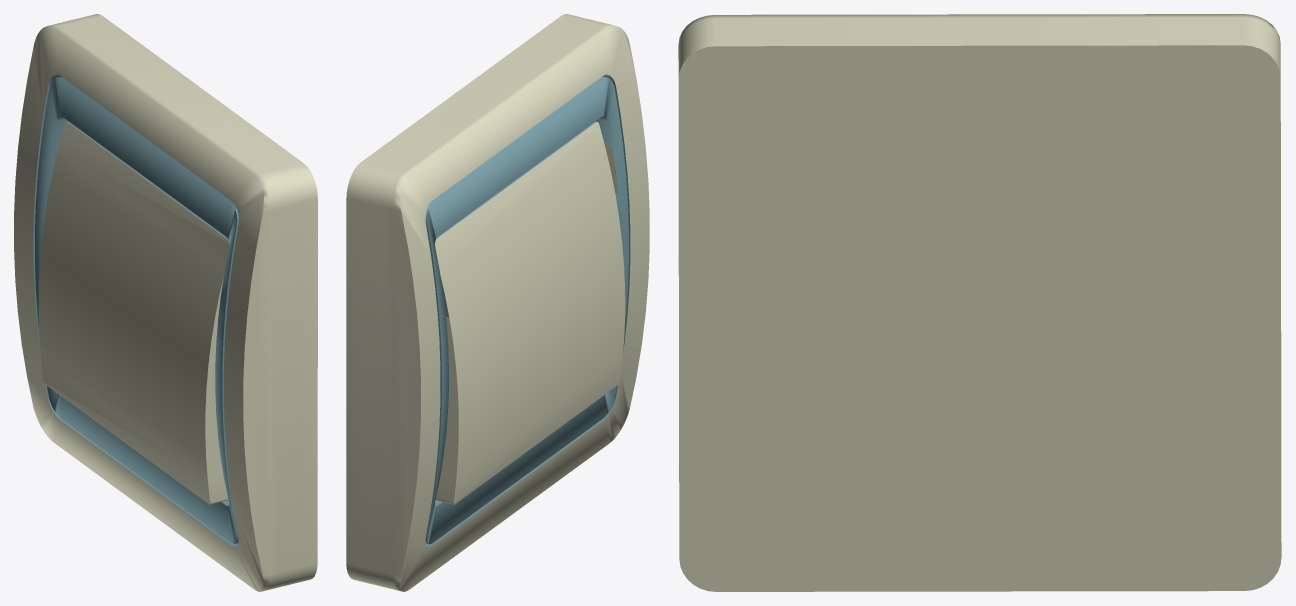
The model's file is Lightswitch.fbx.
The picture shows the model from 3 angles, left to right: view 1: azimuth 30°, elevation 25°; view 2: azimuth 150°, elevation 25°; view 3: azimuth 270°, elevation 25°; orthographic projection. The views are drawn at different scales.
Parts seen in each view (by area): view 1: WhiteArea, BlueArea; view 2: WhiteArea, BlueArea; view 3: WhiteArea.
Boxes of the visible parts, x1,y1,x2,y2 form: WhiteArea: (14,14,317,591); BlueArea: (33,74,238,546); WhiteArea: (346,14,649,591); BlueArea: (425,74,630,546); WhiteArea: (678,14,1281,591).
Bounding box in the file's own units: 1.72 × 8.39 × 8.39.
